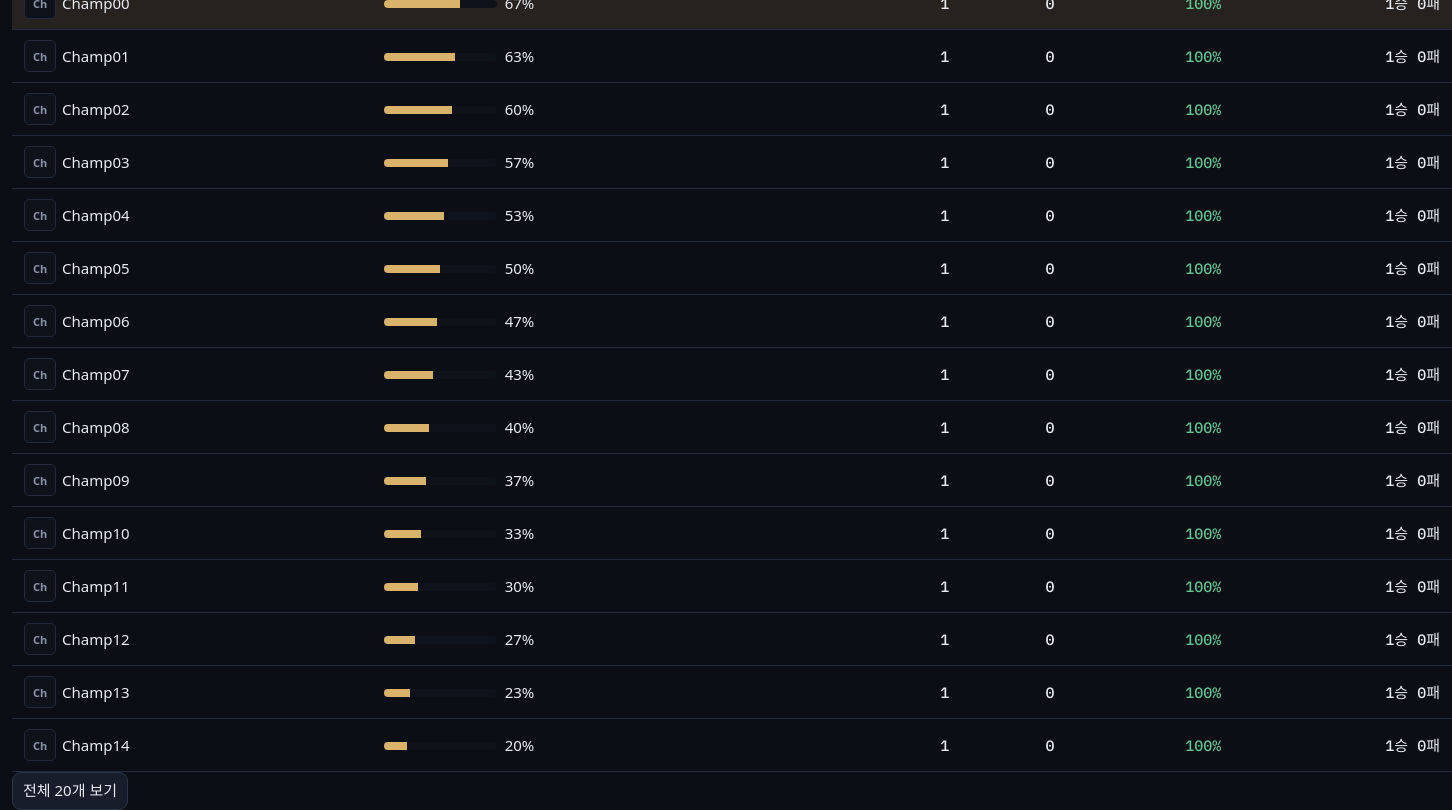
Test: ChampionStatsPage › 기본 15개만 보이고 "전체 N개 보기"를 누르면 모두 보인다. 행은 기록 링크
(page scrolled)
Click the button "전체 20개 보기". click: (70, 791)
box: x1=12 y1=772 x2=128 y2=809
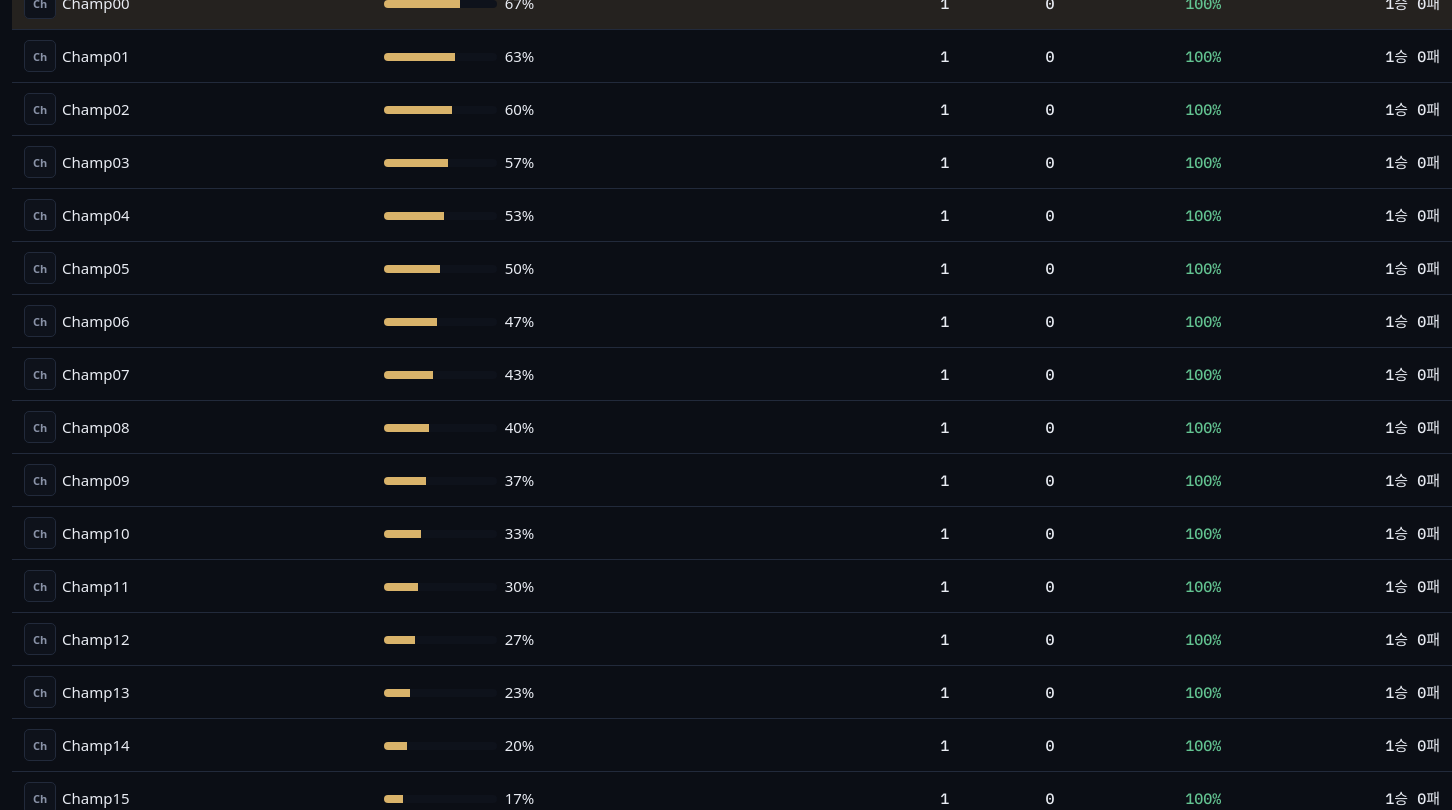
Expected: the button "전체 20개 보기" is gone
